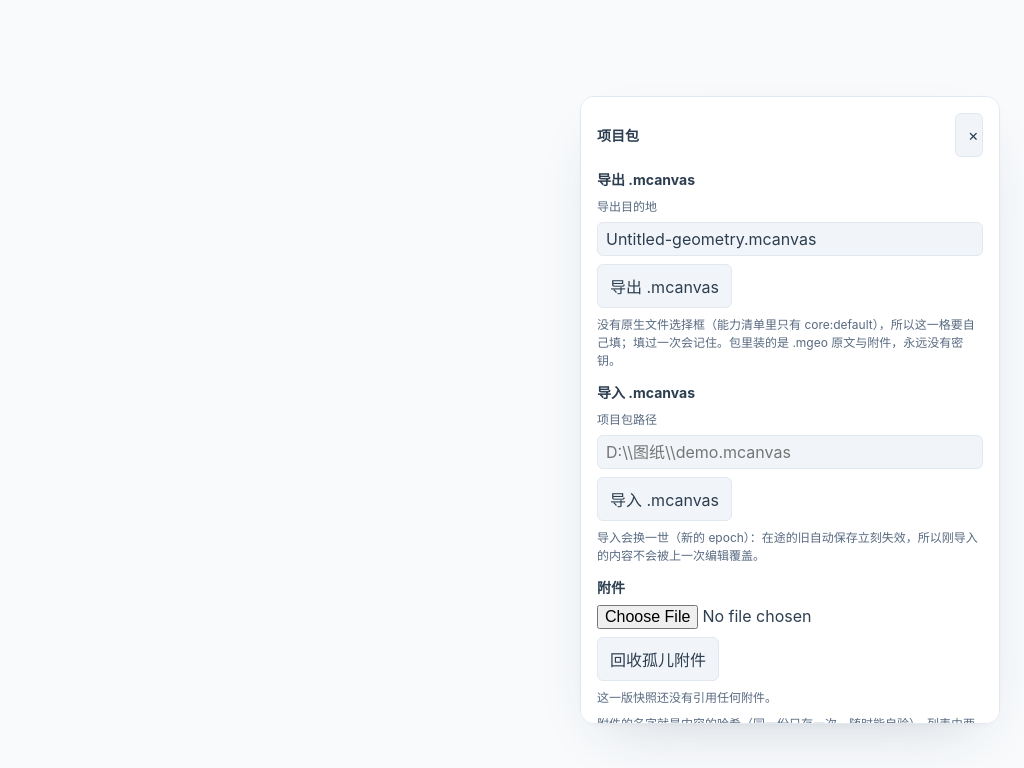
Test: 导出 .mcanvas › 把文档正文与目的地一起发出去，并把目的地补上扩展名
Replace the text in the field named "导出到" with "D:\\out\\demo" at [790, 239], box [597,222,983,256]
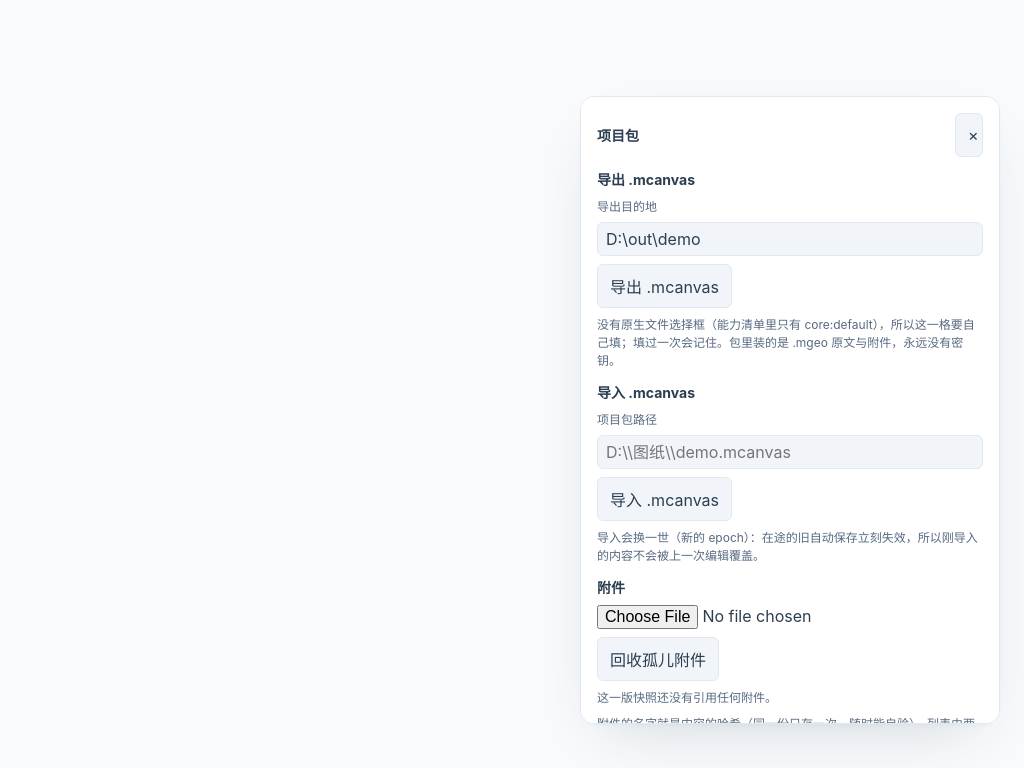
Click the button "导出 .mcanvas" at [664, 286], box [597,264,732,308]
(page scrolled)
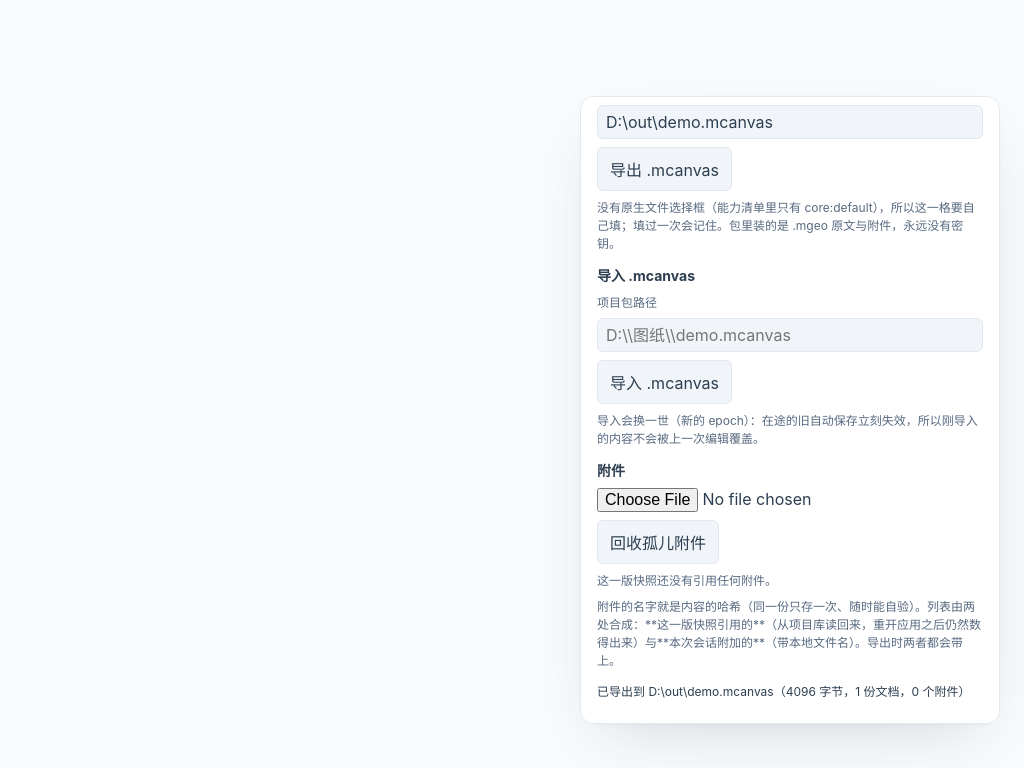
Expected: the text "已导出到 D:\\out\\demo.mcanvas（4096 字节，1 份文档，0 个附件）" is shown, [597,682,983,699]
